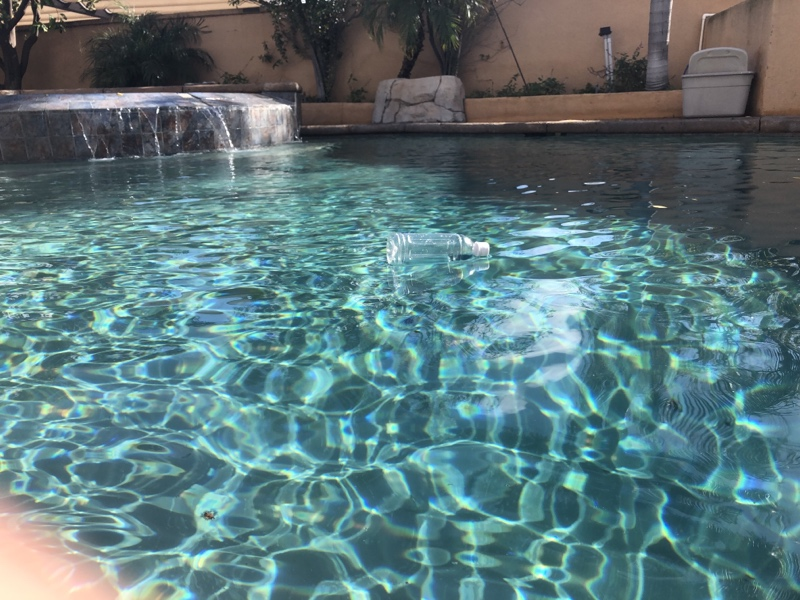Plastic Bottle: (381, 230, 493, 268)
